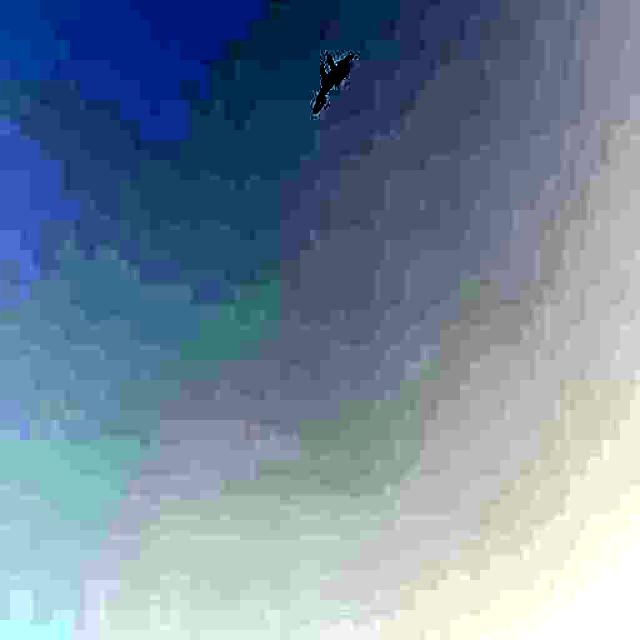bird: (308, 42, 352, 111)
